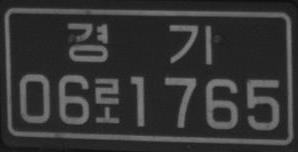0: (18, 72, 51, 124)
1: (125, 75, 149, 127)
5: (245, 78, 280, 132)
6: (204, 77, 239, 130), (56, 73, 89, 126)
7: (163, 75, 197, 128)
경기_D: (67, 23, 213, 65)
로: (94, 76, 120, 124)
